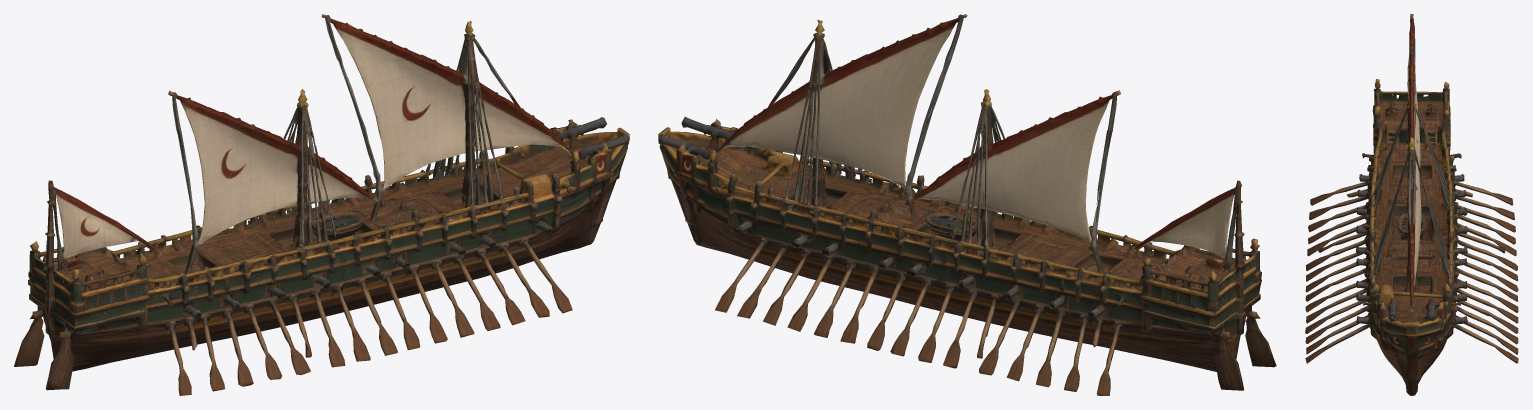
The model's file is osmanli-mavnasi-agir-savas-gemisi-1550-1600-tripo-v1.glb.
3 views of the same model, side by side, from view 1: azimuth 30°, elevation 25°; view 2: azimuth 150°, elevation 25°; view 3: azimuth 270°, elevation 25° (orthographic). The views are drawn at different scales.
Parts seen in each view (by area): view 1: tripo_node_b9e30d82-96af-4fc9-9c82-a4ff4f08e5d9; view 2: tripo_node_b9e30d82-96af-4fc9-9c82-a4ff4f08e5d9; view 3: tripo_node_b9e30d82-96af-4fc9-9c82-a4ff4f08e5d9.
Part boxes in pixels (x1,y1,x2,y2): tripo_node_b9e30d82-96af-4fc9-9c82-a4ff4f08e5d9: (14,14,629,395); tripo_node_b9e30d82-96af-4fc9-9c82-a4ff4f08e5d9: (658,14,1276,395); tripo_node_b9e30d82-96af-4fc9-9c82-a4ff4f08e5d9: (1305,14,1518,395).
Bounding box in the file's own units: 1 × 0.4804 × 0.3735.
Materials: 1 (1 with a texture image).
